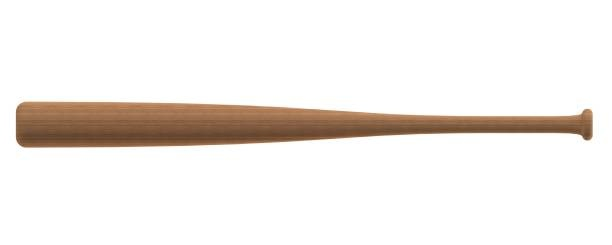bita: (17, 99, 592, 146)
